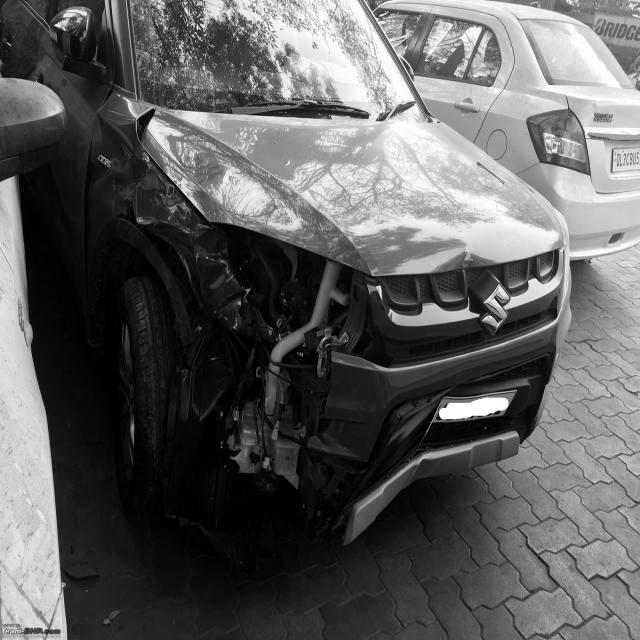fender-dent: (66, 95, 182, 328)
front-bumper-dent: (179, 237, 577, 508)
